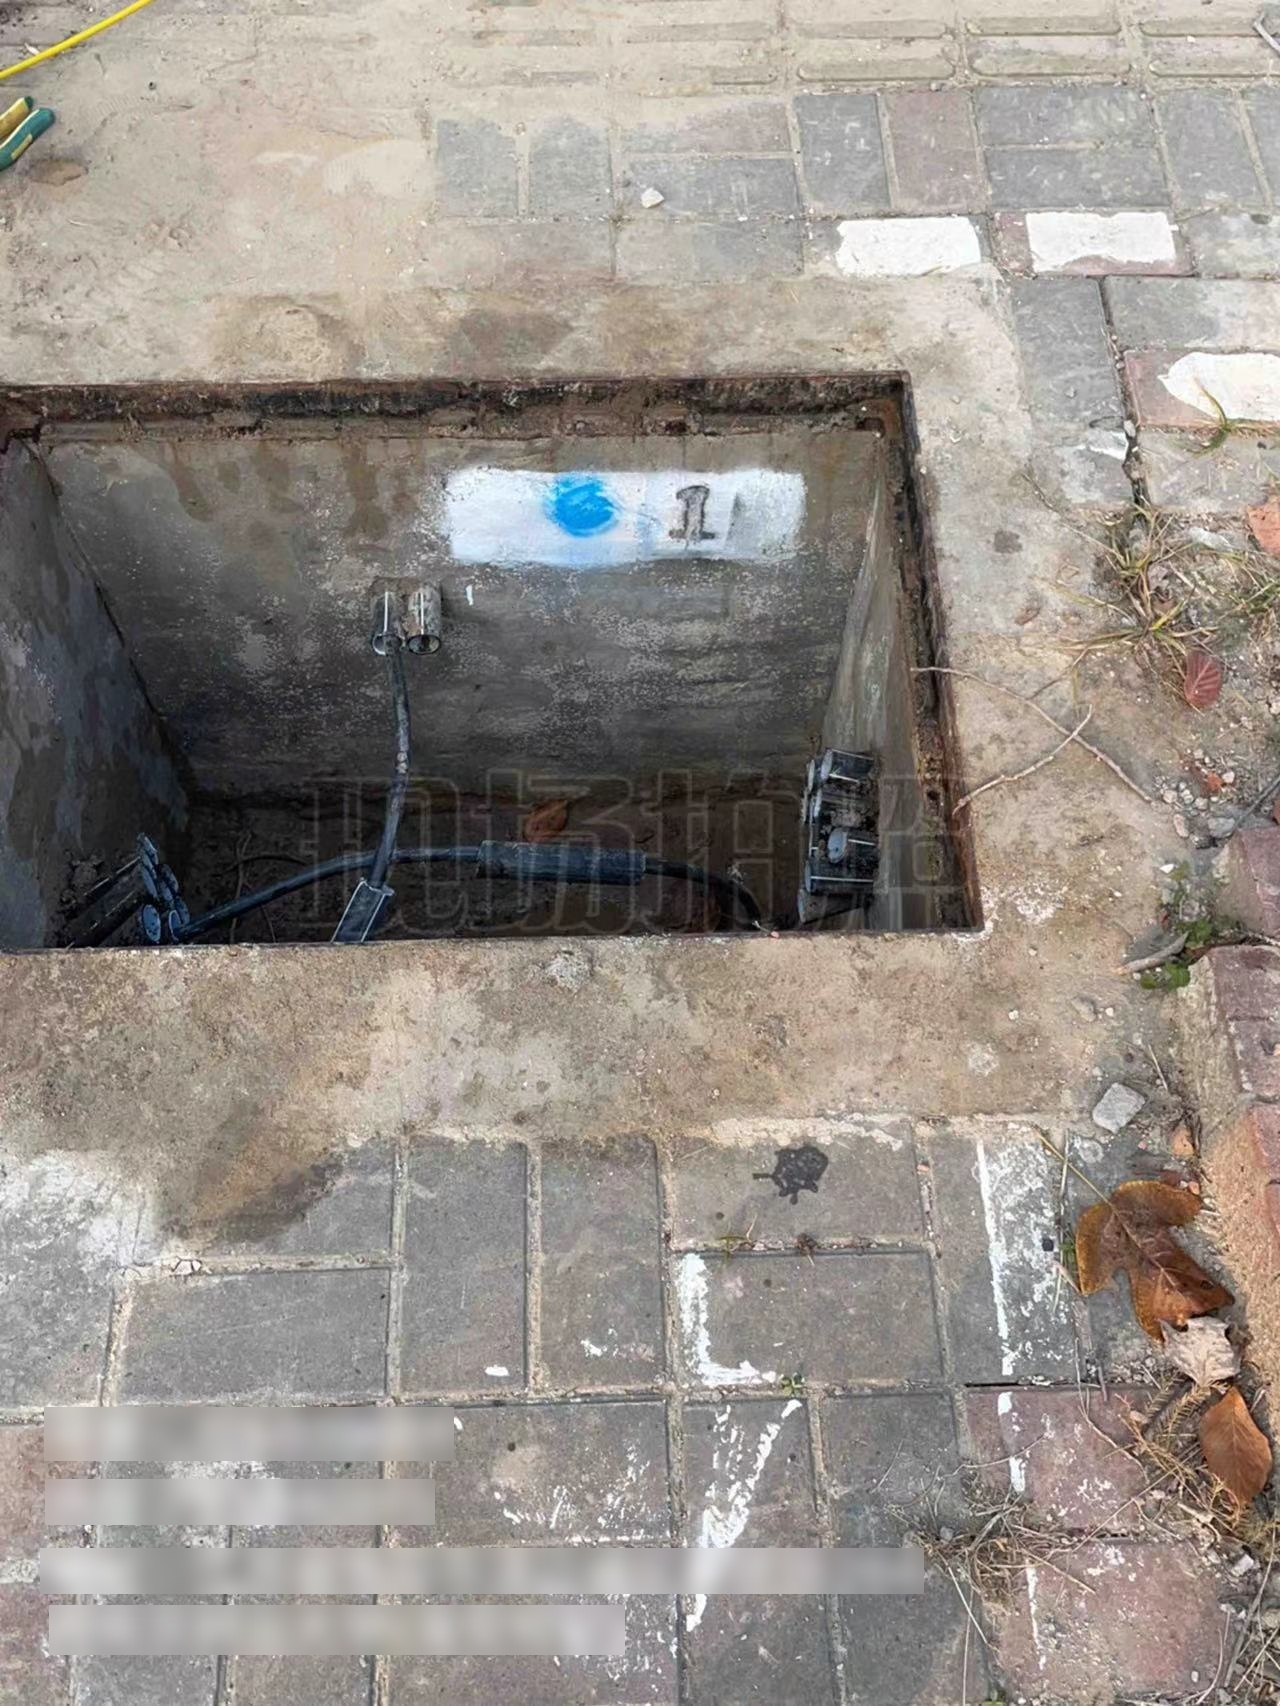lose: (13, 379, 998, 942)
